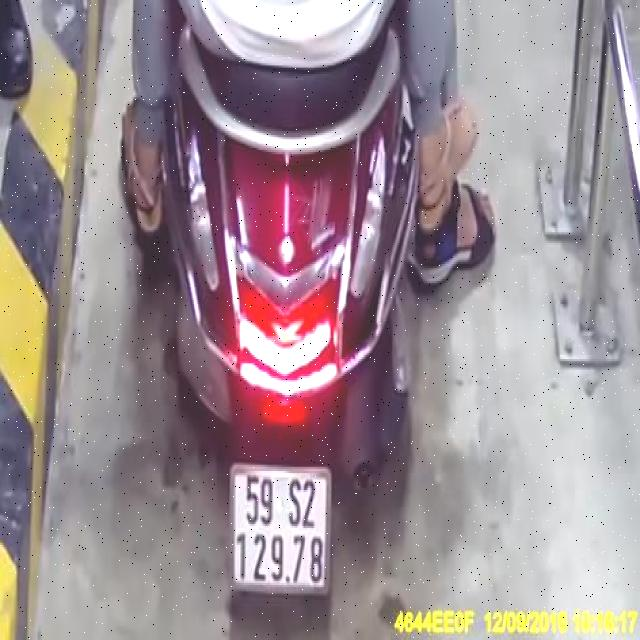1: (236, 527, 251, 584)
2: (300, 475, 317, 536), (250, 528, 268, 585)
5: (243, 473, 262, 535)
7: (288, 528, 306, 591)
8: (307, 532, 328, 592)
9: (268, 529, 287, 586), (261, 474, 276, 532)
S: (286, 475, 302, 528)
